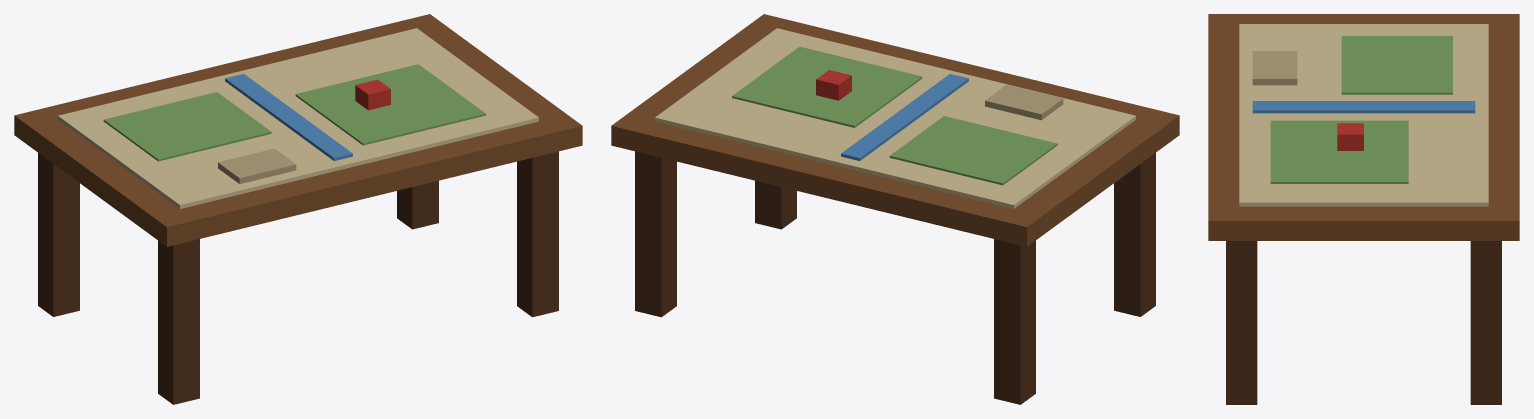
The model's file is ld-map-table.glb.
3 renders of one model, left to right at view 1: azimuth 30°, elevation 25°; view 2: azimuth 150°, elevation 25°; view 3: azimuth 270°, elevation 25°, orthographic. The views are drawn at different scales.
Visible parts, largest first — view 1: box-prop; view 2: box-prop; view 3: box-prop.
Part boxes in pixels (x1=…): box-prop: x1=14, y1=14, x2=582, y2=404; box-prop: x1=611, y1=14, x2=1179, y2=404; box-prop: x1=1208, y1=14, x2=1519, y2=404.
Bounding box in the file's own units: 2.2 × 1.06 × 1.4.
